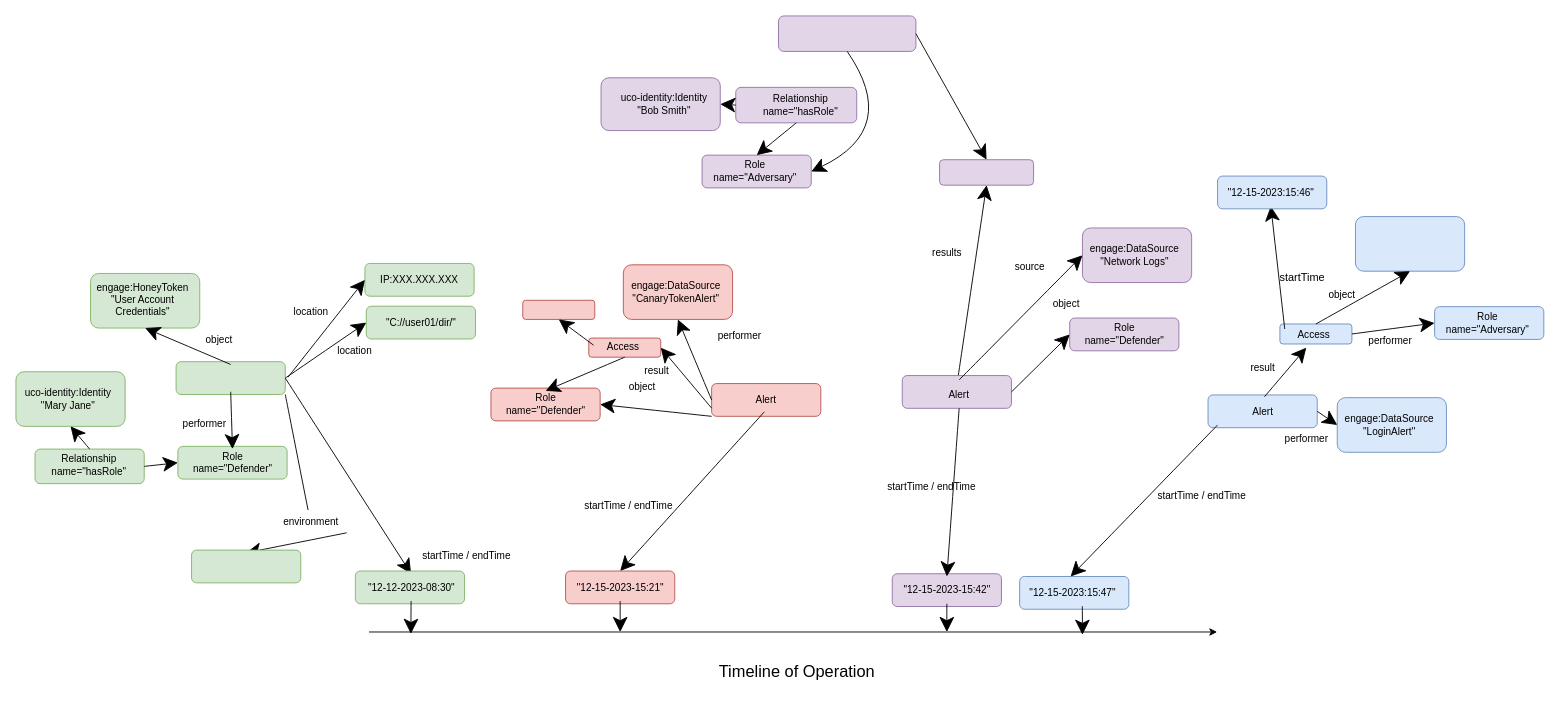
Some shapes in this 1560 by 703 pixel diagram are drawn without their labels. The shapes that lost their labels are listed below. From the top down, each one's box as (x1, y1, x2, y2) in pixels, then its label:
(778, 15, 916, 51): Relationship name="hasKnownlP"
(939, 159, 1034, 185): AdvIP
(1355, 216, 1465, 271): engage:Honeypot "Windows XP"
(522, 299, 595, 319): File
(175, 361, 285, 394): Deploy
(191, 549, 301, 583): "MacOS Sierra" ID:XXX.YYY.ZZZ
